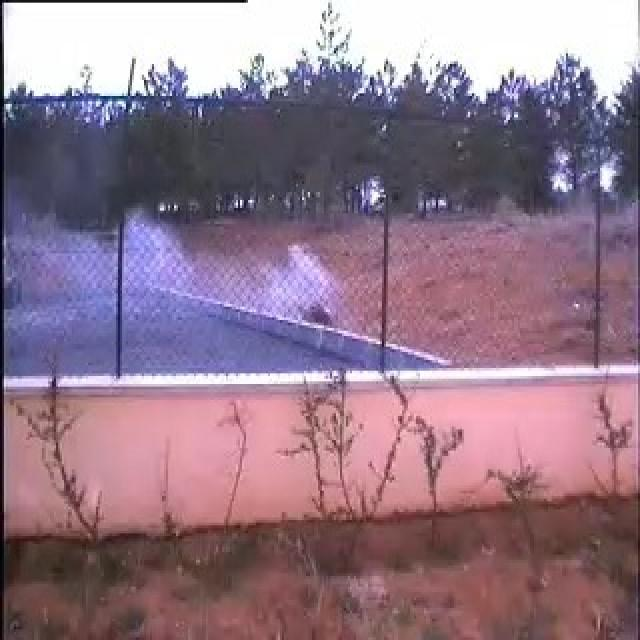smoke: (75, 203, 342, 379)
